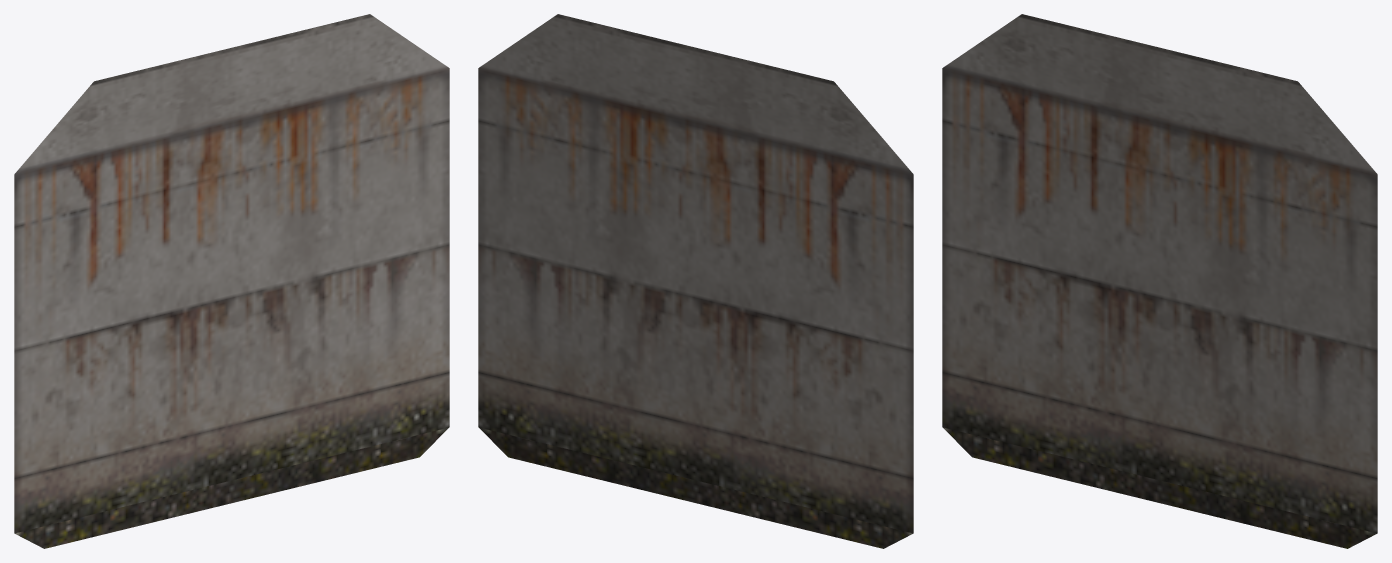
The model's file is MESH_ESGOTO_WALL_2.fbx.
The picture shows the model from 3 angles, left to right: view 1: azimuth 30°, elevation 25°; view 2: azimuth 150°, elevation 25°; view 3: azimuth 330°, elevation 25°; orthographic projection.
Parts seen in each view (by area): view 1: MESH_ESGOTO_WALL_2; view 2: MESH_ESGOTO_WALL_2; view 3: MESH_ESGOTO_WALL_2.
Part boxes in pixels (box(x1,y1,x2,y2)): MESH_ESGOTO_WALL_2: box(14, 14, 449, 548); MESH_ESGOTO_WALL_2: box(478, 14, 913, 548); MESH_ESGOTO_WALL_2: box(942, 14, 1377, 548).
Bounding box in the file's own units: 4 × 4 × 0.
